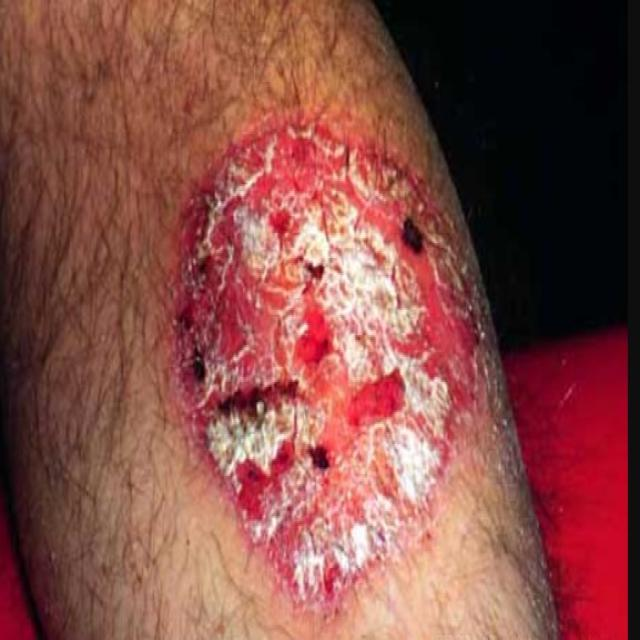Psoriasis Vulgar: (1, 0, 558, 637)
